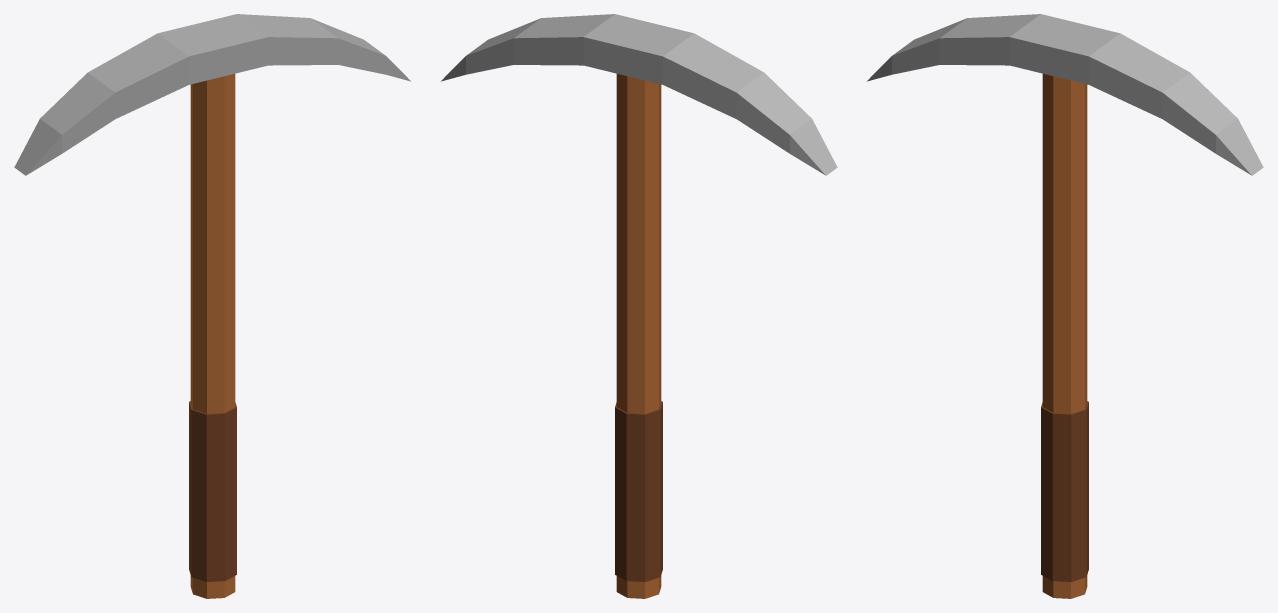
Rendered from Pick.fbx.
3 views of the same model, side by side, from view 1: azimuth 30°, elevation 25°; view 2: azimuth 150°, elevation 25°; view 3: azimuth 330°, elevation 25° (orthographic).
Visible parts, largest first — view 1: Axe; view 2: Axe; view 3: Axe.
Part boxes in pixels (x1=…): Axe: x1=14, y1=14, x2=410, y2=598; Axe: x1=441, y1=14, x2=837, y2=598; Axe: x1=867, y1=14, x2=1263, y2=598.
Bounding box in the file's own units: 96.66 × 133 × 13.67.
